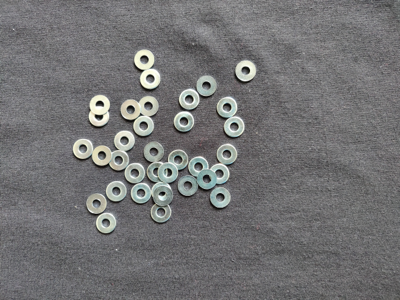circle: (210, 187, 232, 209), (96, 213, 117, 235), (106, 181, 127, 203), (131, 183, 152, 205), (225, 116, 246, 138), (235, 60, 257, 81), (86, 194, 107, 215), (178, 176, 199, 197), (168, 150, 189, 171), (125, 163, 146, 184), (73, 139, 94, 160), (109, 151, 130, 172), (114, 131, 135, 152), (90, 95, 111, 116), (134, 50, 155, 71), (174, 112, 195, 133), (152, 182, 172, 204), (151, 203, 172, 223), (210, 164, 230, 185), (217, 144, 237, 165), (189, 157, 210, 177), (145, 142, 165, 163), (148, 162, 168, 183), (90, 106, 110, 127), (134, 116, 154, 137), (121, 99, 141, 120), (141, 69, 161, 90), (217, 98, 238, 118), (197, 76, 217, 97), (179, 90, 200, 110), (198, 170, 218, 190), (153, 186, 173, 206), (159, 163, 179, 183), (93, 145, 112, 166), (139, 97, 159, 116)
